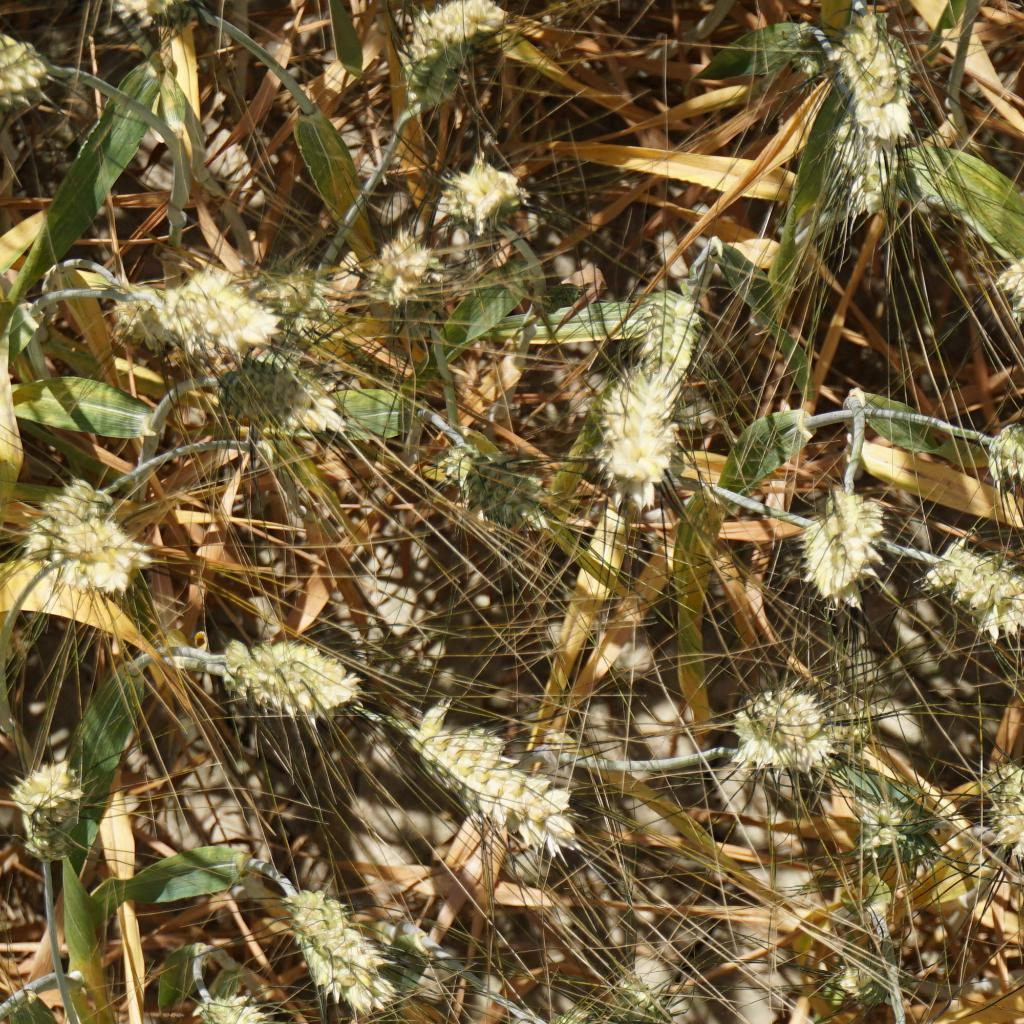0-0: (403, 698, 581, 858), (278, 877, 418, 1024), (721, 668, 862, 787), (215, 614, 363, 722), (391, 0, 519, 121), (784, 472, 890, 617), (141, 254, 278, 356), (202, 353, 356, 441), (592, 358, 687, 497), (832, 7, 941, 128), (434, 423, 552, 533), (924, 529, 1024, 643), (17, 465, 111, 571), (6, 757, 89, 872), (851, 788, 956, 876), (823, 104, 901, 214), (93, 274, 188, 361), (51, 517, 150, 600), (248, 263, 337, 334), (362, 234, 441, 311), (442, 164, 529, 229), (634, 282, 701, 365), (971, 416, 1024, 510), (979, 756, 1024, 863), (0, 32, 47, 133), (188, 979, 286, 1024), (995, 247, 1024, 396), (603, 972, 679, 1024), (827, 948, 887, 1011), (112, 0, 190, 39)
